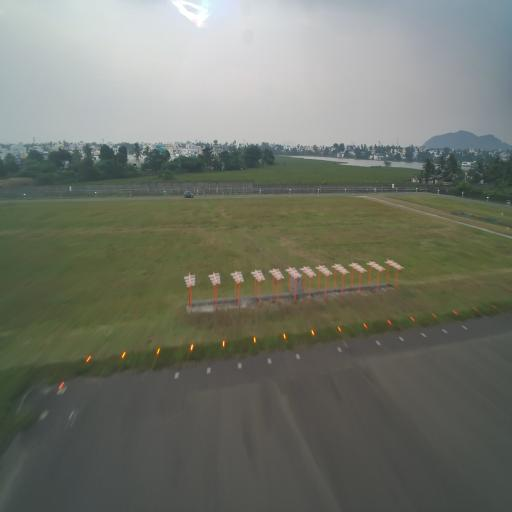on: (309, 326, 320, 342), (186, 340, 196, 357), (408, 309, 417, 327), (250, 330, 258, 350), (57, 378, 66, 394), (429, 308, 439, 321), (220, 334, 228, 350), (472, 302, 480, 318), (84, 351, 91, 369), (360, 319, 369, 333), (120, 350, 127, 364), (154, 345, 161, 358), (282, 329, 288, 344), (387, 314, 393, 329), (335, 324, 343, 335), (452, 307, 460, 316)
